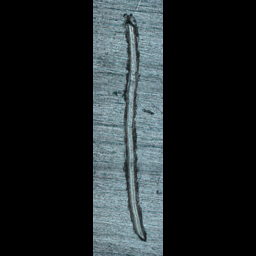d: (116, 10, 148, 242)
